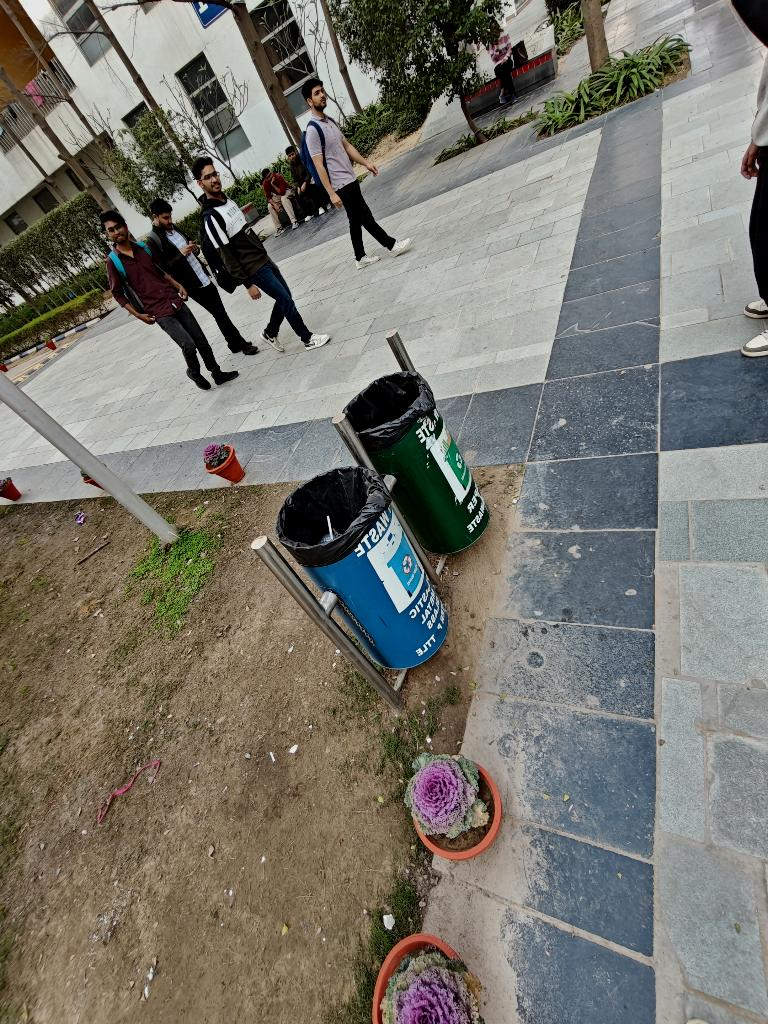dustbin: (235, 311, 515, 713)
